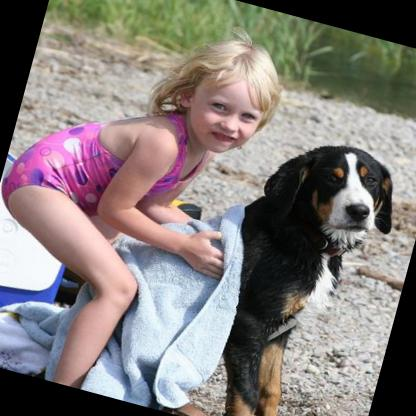Greater_Swiss_Mountain_dog: (63, 86, 411, 416)
